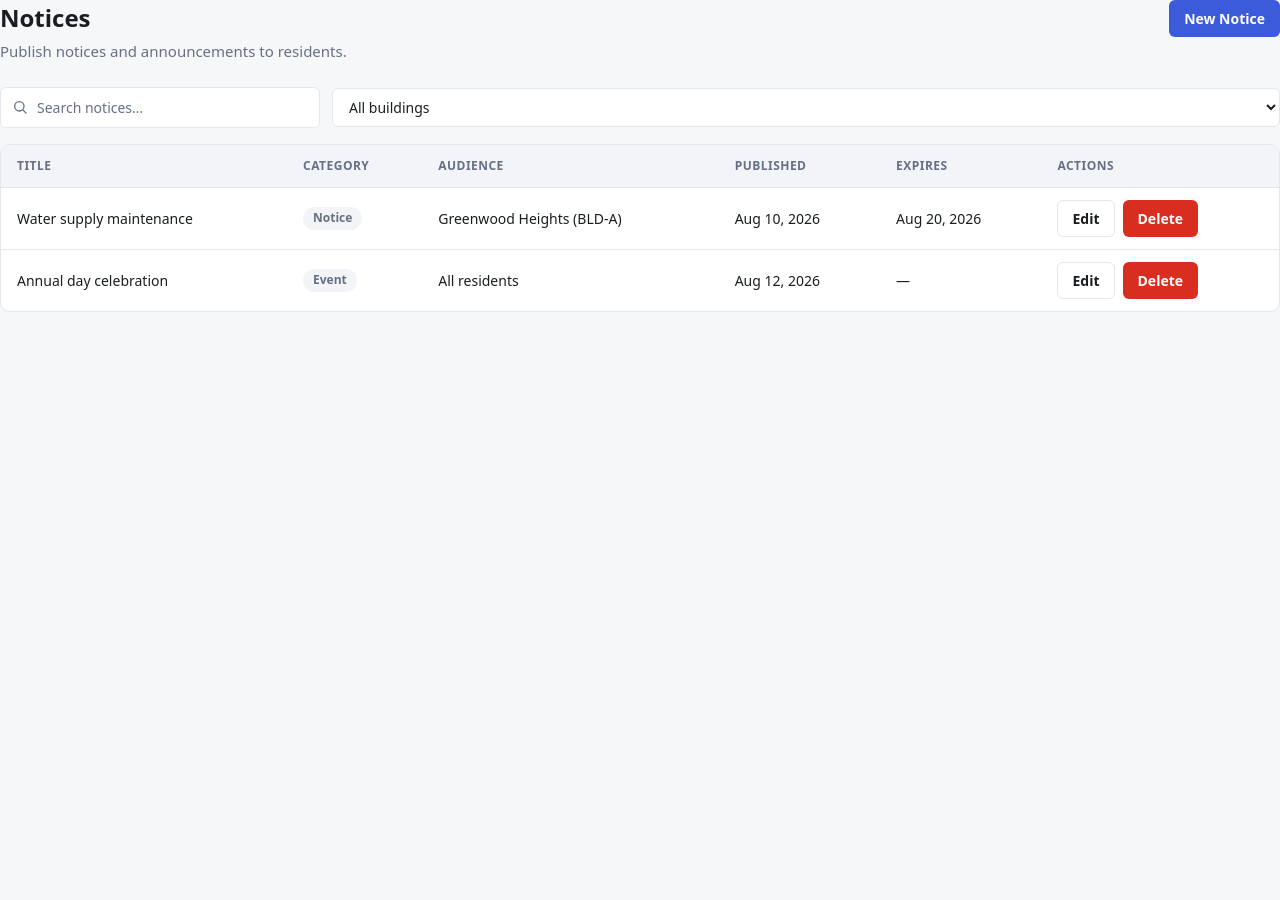
Test: NoticesPage CRUD functionality › opens New Notice modal and loads Building options
The image size is (1280, 900).
Check: the text "Water supply maintenance" is shown, box [1,187,287,249]
What coordinates should you click on to do the following:
click the button "New Notice"
I would click on:
 (1225, 18)
Its box is [1169,0,1279,37].
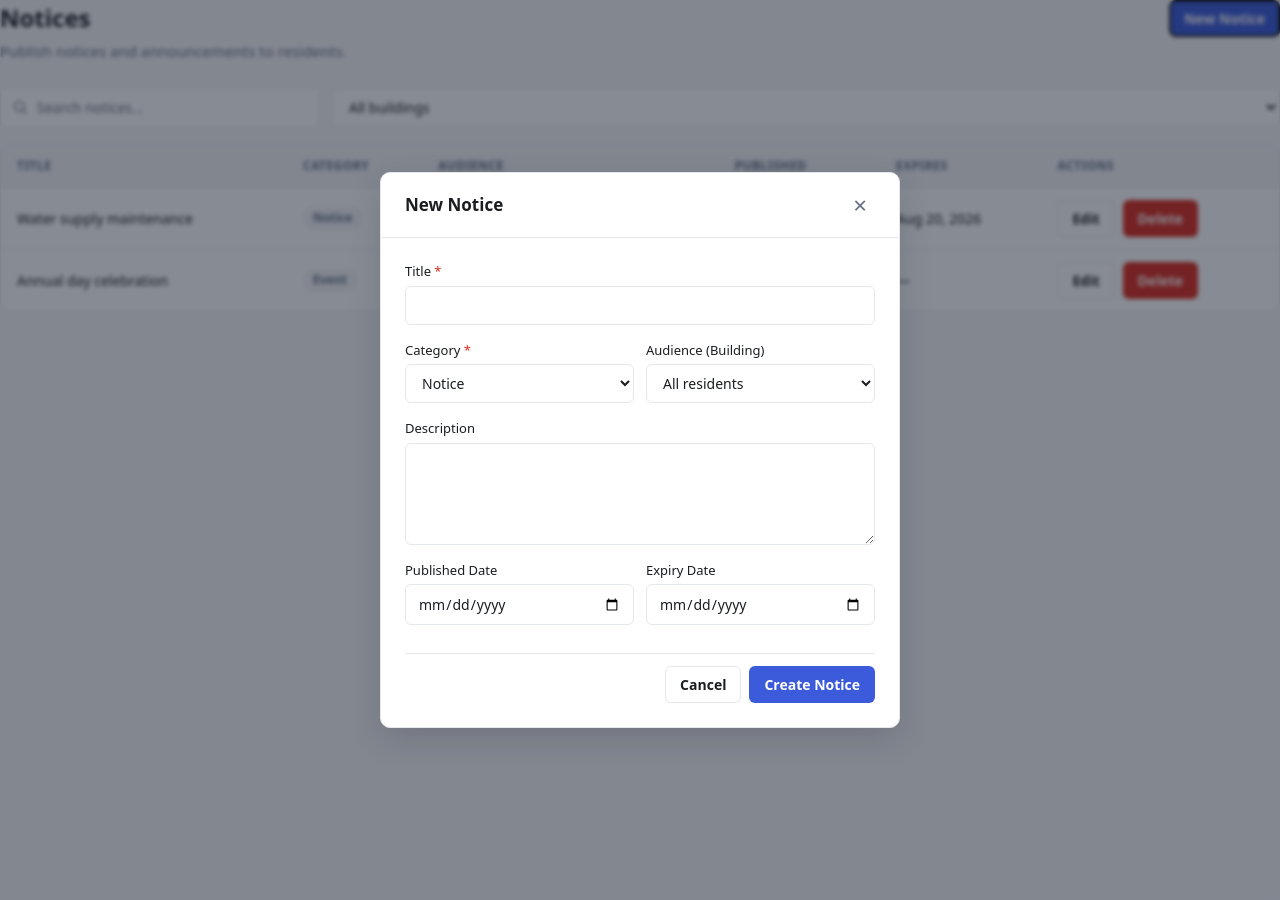
Check: the dialog "New Notice" is shown, box [380,172,900,728]
